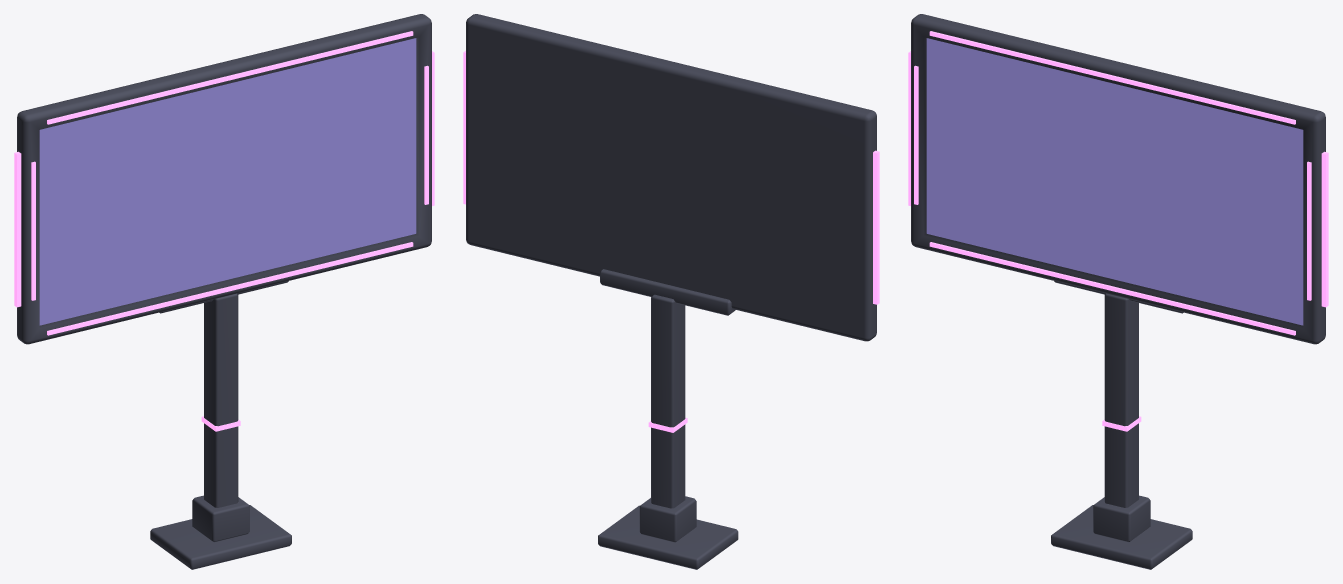
Rendered from panel.glb.
3 views of the same model, side by side, from view 1: azimuth 30°, elevation 25°; view 2: azimuth 150°, elevation 25°; view 3: azimuth 330°, elevation 25° (orthographic).
Parts seen in each view (by area): view 1: face, body, trim; view 2: body, trim; view 3: face, body, trim.
Part boxes in pixels (<box>): face: <box>39,38,416,325</box>; body: <box>17,14,431,569</box>; trim: <box>14,31,434,431</box>; body: <box>466,14,876,569</box>; trim: <box>463,50,879,432</box>; face: <box>926,38,1303,325</box>; body: <box>911,14,1325,569</box>; trim: <box>908,31,1328,431</box>.
Bounding box in the file's own units: 2.86 × 3.2 × 0.5.
